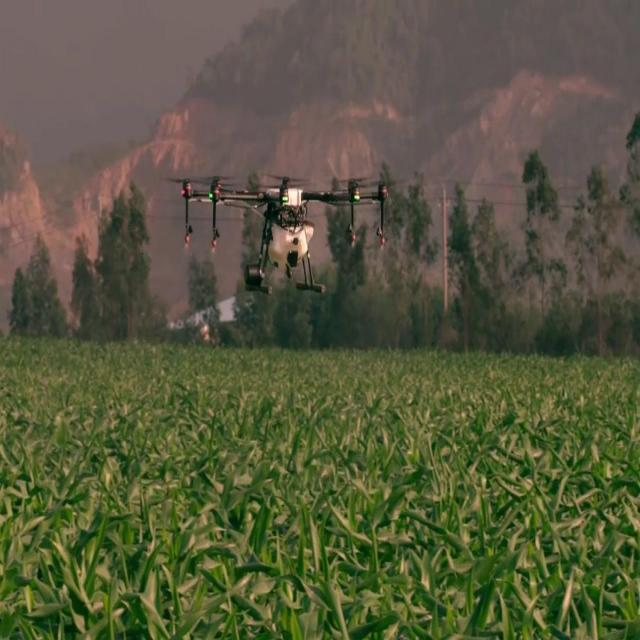UAV: (164, 173, 392, 295)
